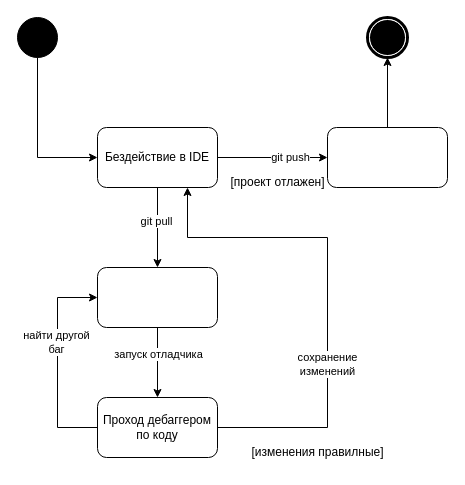
Some shapes in this 465 by 485 pixel diagram are drawn without their labels. Here are the shapes that lost their labels. From the top down, the box of each, then its label:
(326, 126, 448, 188): Сохранение изменений в репозитории
(96, 266, 218, 328): Внесение изменений в код
